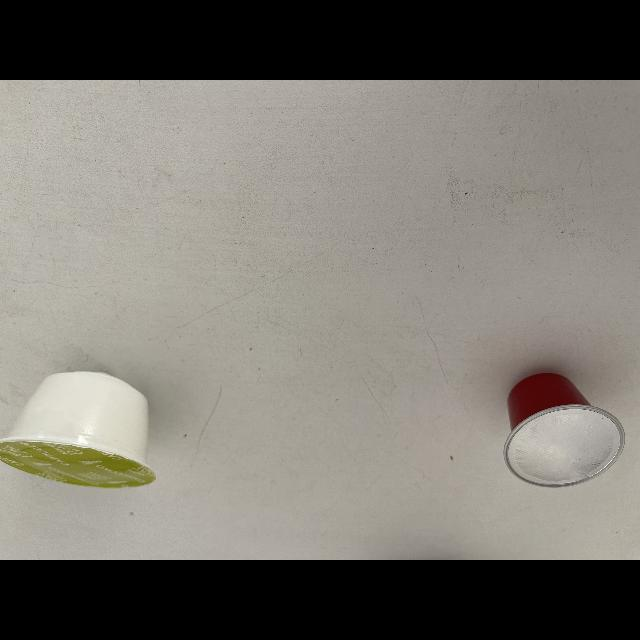intact_capsule: (1, 364, 166, 500), (492, 364, 640, 498)
